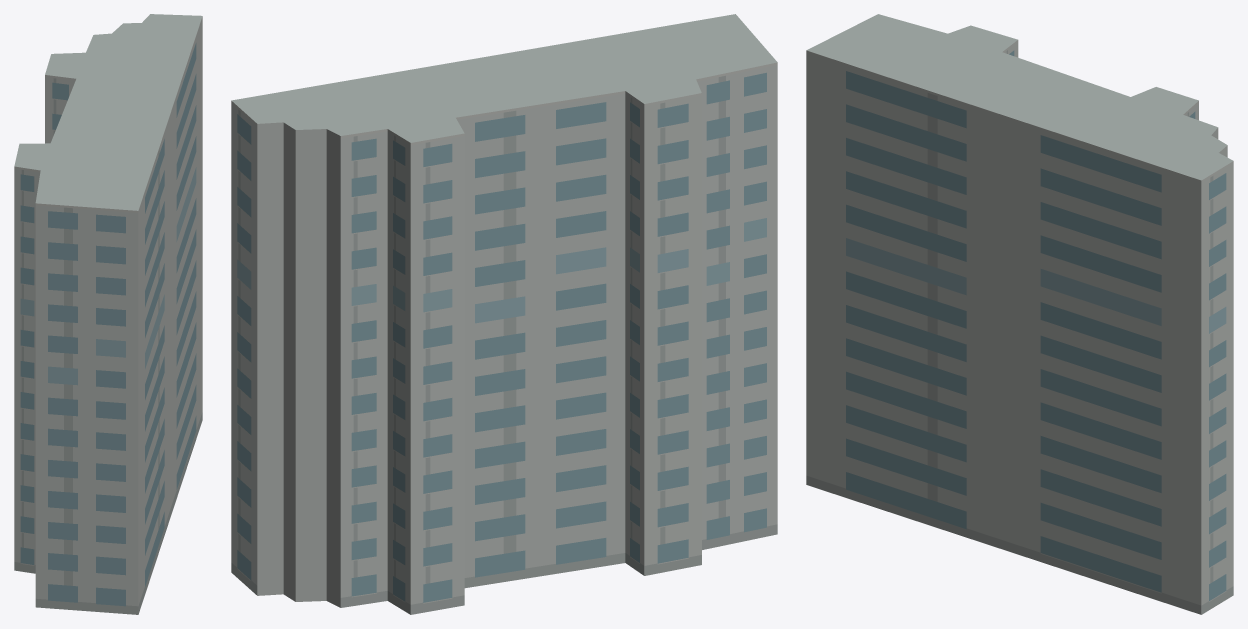
The model's file is residential-103dd4d9-a254-42c7-895e-34f233921638.glb.
The picture shows the model from 3 angles, left to right: view 1: azimuth 30°, elevation 25°; view 2: azimuth 150°, elevation 25°; view 3: azimuth 270°, elevation 25°; orthographic projection. The views are drawn at different scales.
Parts seen in each view (by area): view 1: residential-103dd4d9-a254-42c7-895e-34f233921638.tmp; view 2: residential-103dd4d9-a254-42c7-895e-34f233921638.tmp; view 3: residential-103dd4d9-a254-42c7-895e-34f233921638.tmp.
Boxes of the visible parts, x1,y1,x2,y2 form: residential-103dd4d9-a254-42c7-895e-34f233921638.tmp: (14, 14, 202, 614); residential-103dd4d9-a254-42c7-895e-34f233921638.tmp: (231, 14, 777, 614); residential-103dd4d9-a254-42c7-895e-34f233921638.tmp: (806, 14, 1233, 614).
Bounding box in the file's own units: 37.83 × 46 × 41.03.
